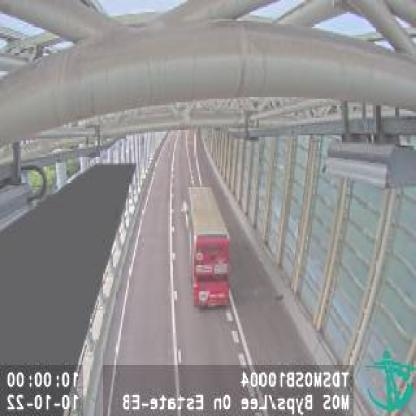Bus: (187, 184, 230, 310)
